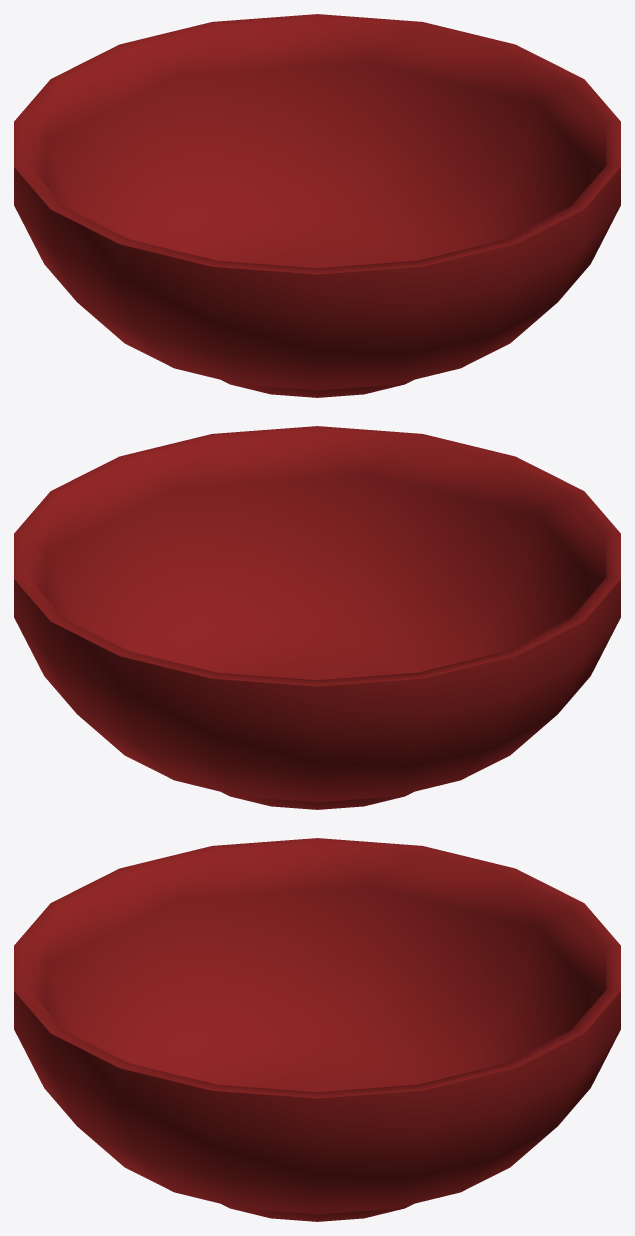
File: Kitchen_Redbowl.FBX
3 renders of one model, top to bottom at view 1: azimuth 30°, elevation 25°; view 2: azimuth 150°, elevation 25°; view 3: azimuth 270°, elevation 25°, orthographic.
Parts seen in each view (by area): view 1: Kitchen_bowl_Red; view 2: Kitchen_bowl_Red; view 3: Kitchen_bowl_Red.
Boxes of the visible parts, x1,y1,x2,y2 form: Kitchen_bowl_Red: (14, 14, 620, 397); Kitchen_bowl_Red: (14, 426, 620, 809); Kitchen_bowl_Red: (14, 838, 620, 1221).
Bounding box in the file's own units: 0.1578 × 0.0553 × 0.1554.
